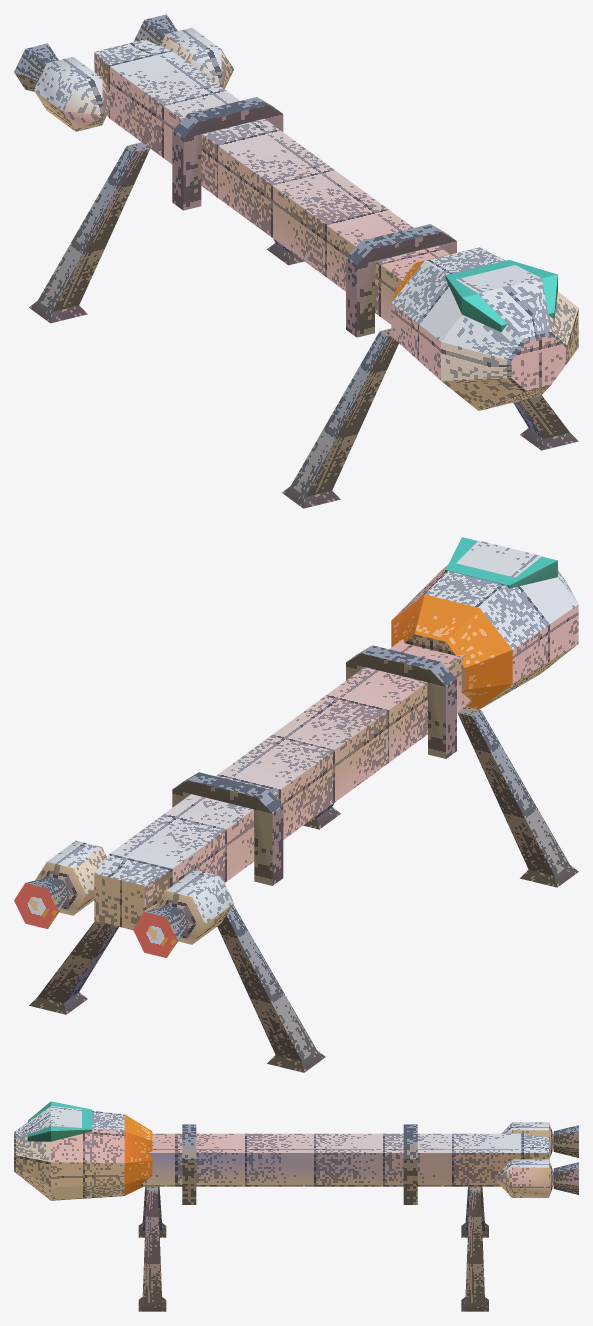
Rendered from ship.hauler__empty.glb.
3 renders of one model, top to bottom at view 1: azimuth 30°, elevation 25°; view 2: azimuth 150°, elevation 25°; view 3: azimuth 270°, elevation 25°, orthographic. The views are drawn at different scales.
Visible parts, largest first — view 1: kit_spine, kit_cab, kit_legs, kit_clamps, kit_nacelles, kit_cab_glass, kit_bells; view 2: kit_spine, kit_cab, kit_legs, kit_clamps, kit_nacelles, kit_bells, kit_cab_glass; view 3: kit_spine, kit_cab, kit_legs, kit_nacelles, kit_clamps, kit_bells, kit_cab_glass.
Boxes of the visible parts, x1,y1,x2,y2 form: kit_spine: [94, 39, 449, 324]; kit_cab: [391, 247, 578, 410]; kit_legs: [29, 142, 578, 508]; kit_clamps: [172, 97, 456, 337]; kit_nacelles: [34, 27, 233, 131]; kit_cab_glass: [445, 260, 557, 332]; kit_bells: [14, 14, 177, 91]; kit_spine: [94, 639, 471, 929]; kit_cab: [391, 540, 578, 709]; kit_legs: [29, 706, 578, 1072]; kit_clamps: [172, 645, 456, 885]; kit_nacelles: [35, 840, 233, 944]; kit_bells: [14, 877, 188, 957]; kit_cab_glass: [445, 537, 557, 588]; kit_spine: [139, 1133, 548, 1186]; kit_cab: [14, 1106, 152, 1200]; kit_legs: [138, 1186, 488, 1311]; kit_nacelles: [494, 1122, 553, 1197]; kit_clamps: [182, 1124, 417, 1204]; kit_bells: [553, 1125, 578, 1194]; kit_cab_glass: [28, 1101, 92, 1141].
Size of the model in its own units: 4.4 by 3.66 by 12.25.
6 materials, 5 textured.
